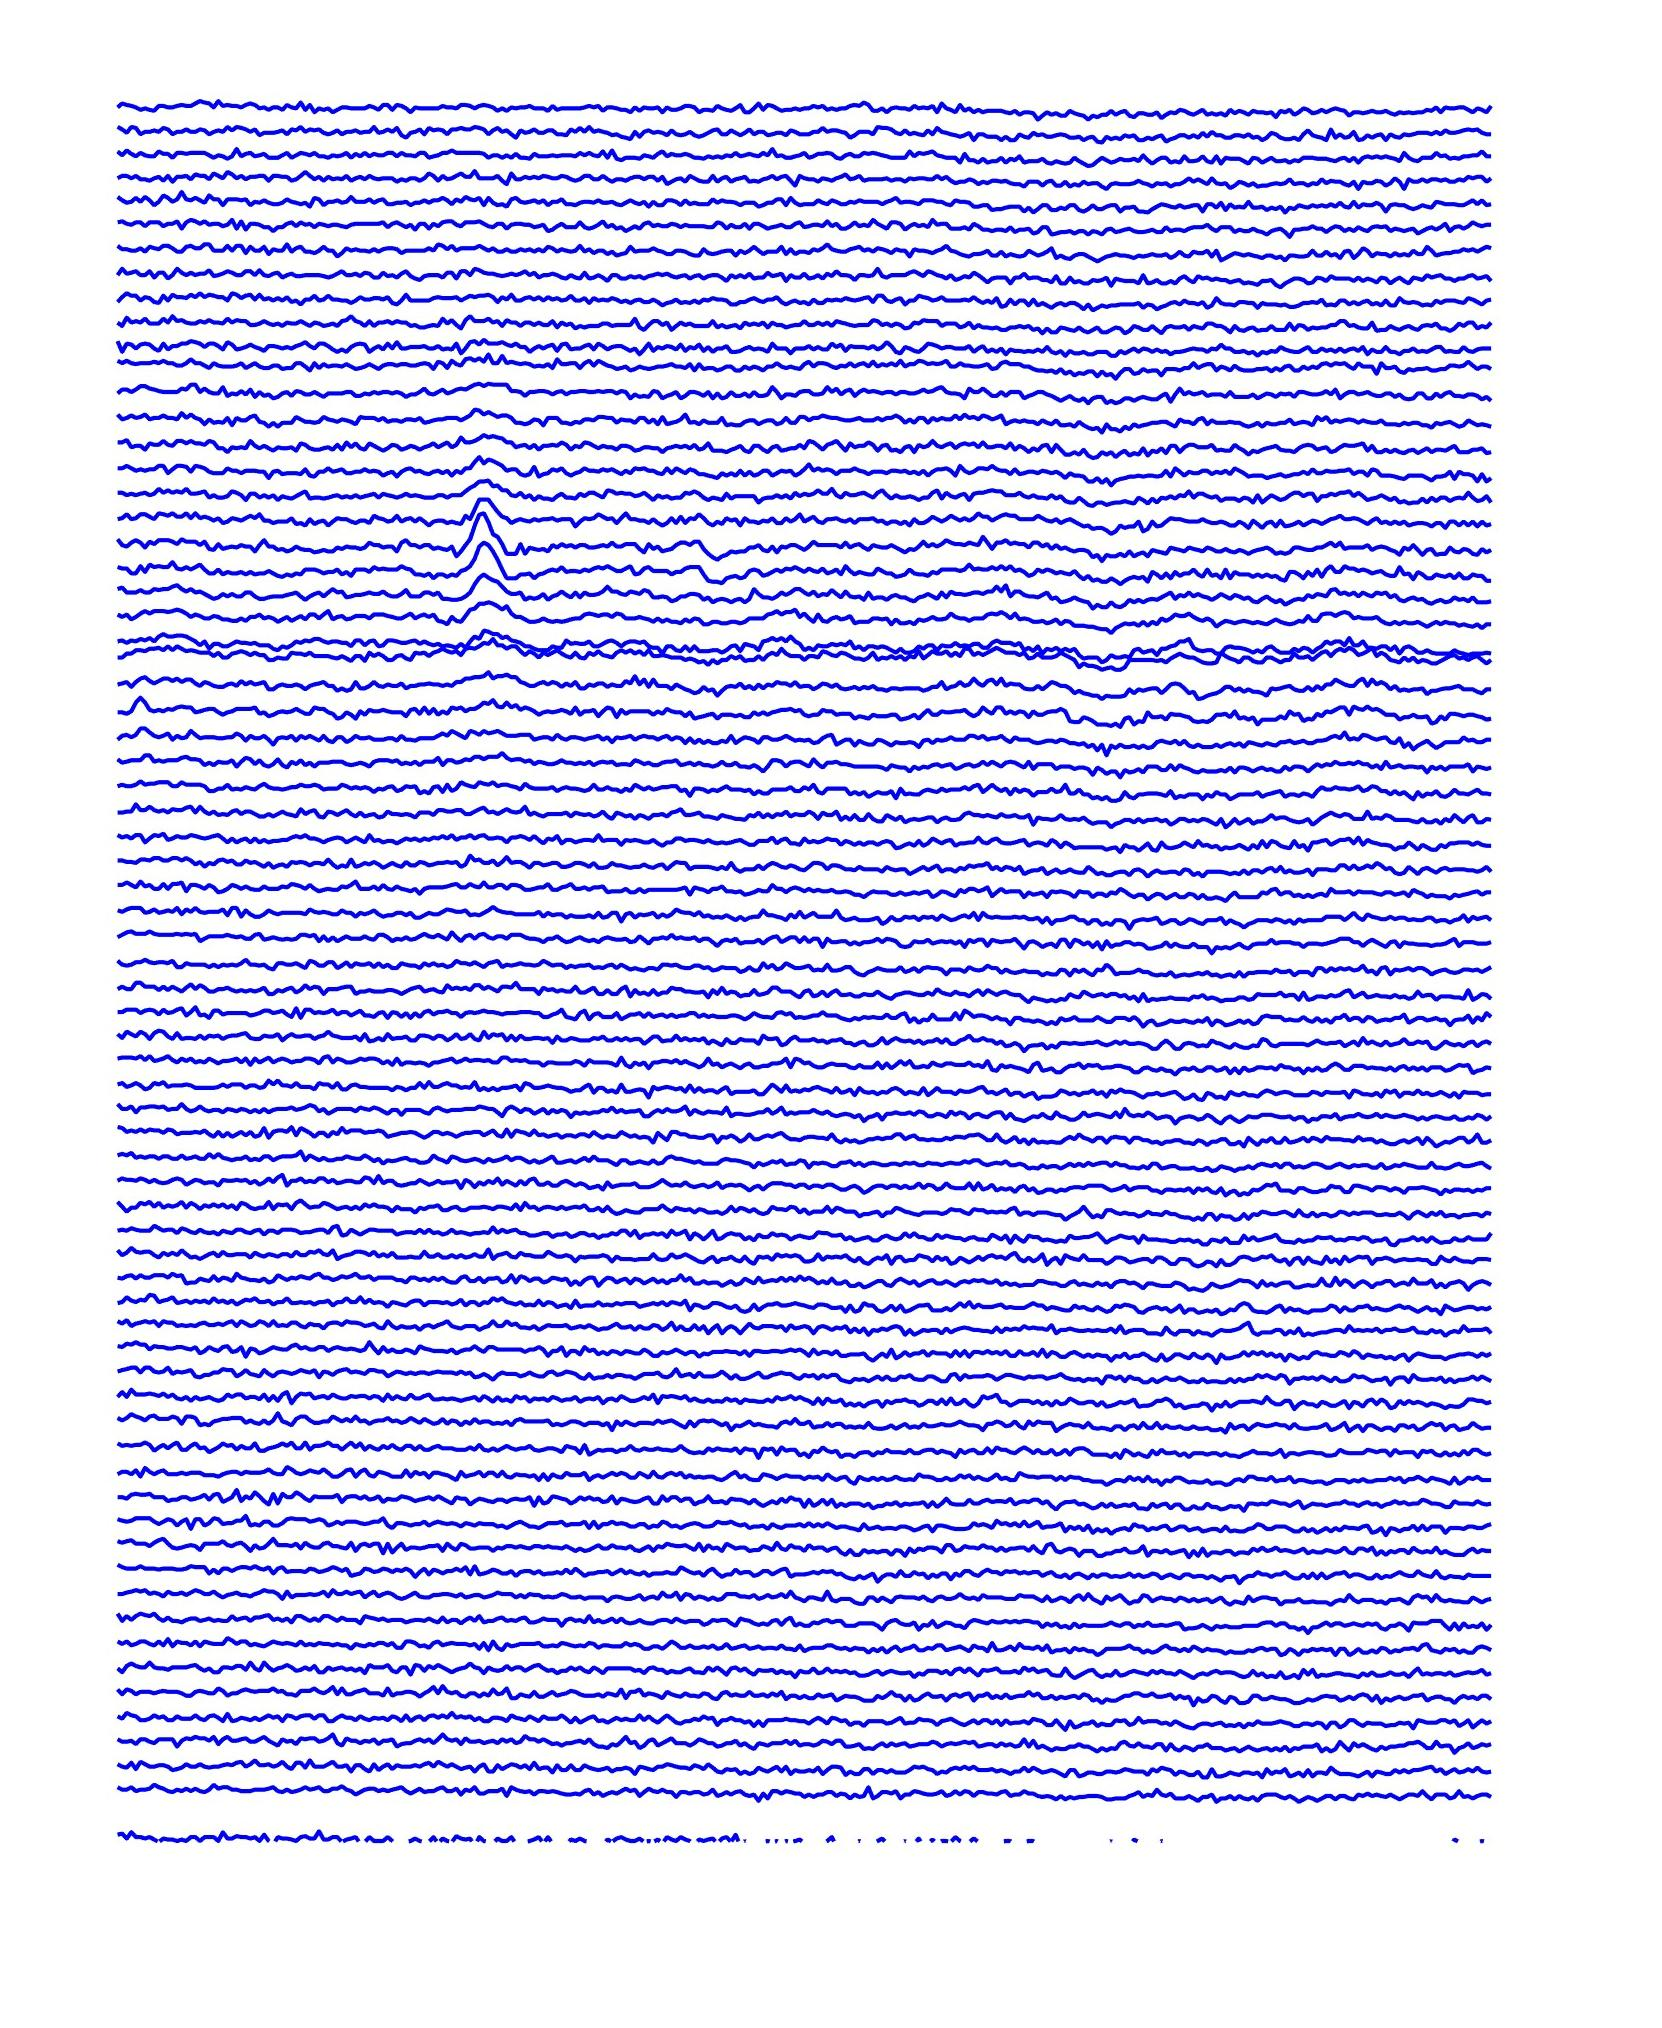defect: (448, 485, 522, 618)
